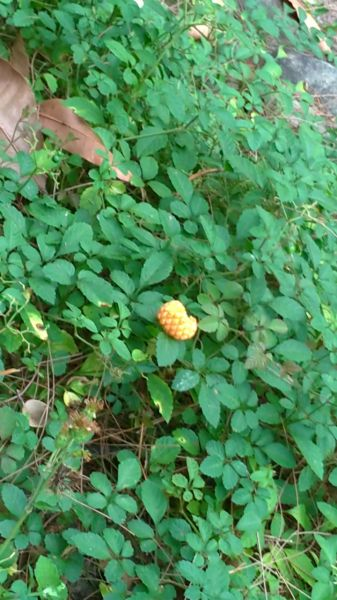eggs: (153, 297, 200, 348)
